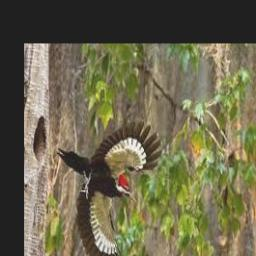Woodpecker: (57, 119, 165, 256)
